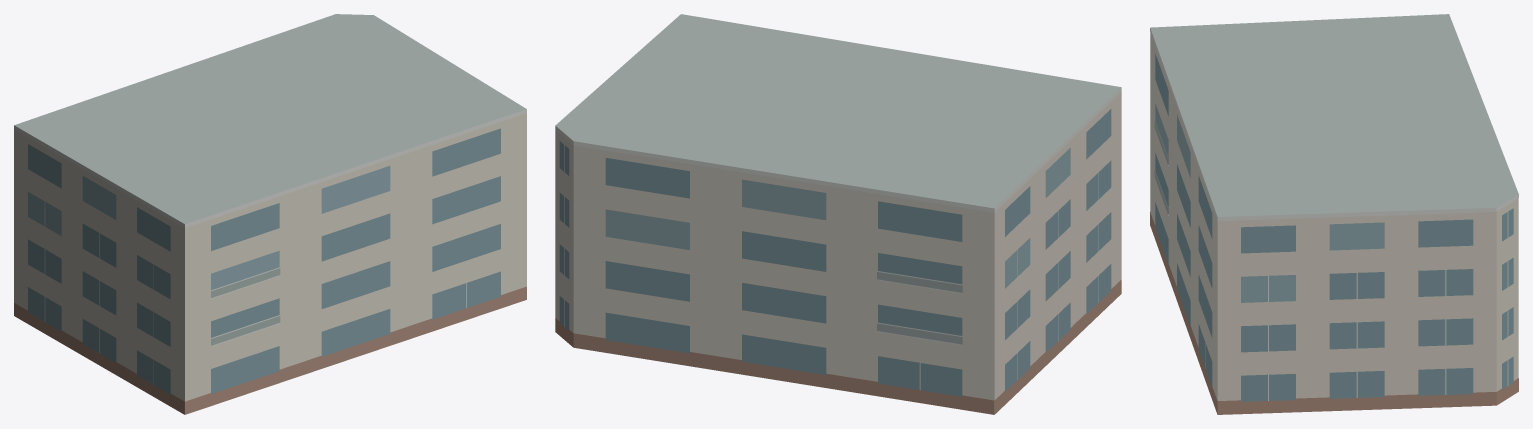
Rendered from survey-upis-32489994.glb.
The picture shows the model from 3 angles, left to right: view 1: azimuth 30°, elevation 25°; view 2: azimuth 150°, elevation 25°; view 3: azimuth 270°, elevation 25°; orthographic projection. The views are drawn at different scales.
Visible parts, largest first — view 1: survey-upis-32489994.tmp; view 2: survey-upis-32489994.tmp; view 3: survey-upis-32489994.tmp.
Boxes of the visible parts, box(x1,y1,x2,y2) form: survey-upis-32489994.tmp: box(14, 14, 526, 414); survey-upis-32489994.tmp: box(555, 14, 1121, 414); survey-upis-32489994.tmp: box(1150, 14, 1518, 414).
Bounding box in the file's own units: 25.77 × 11.7 × 19.77.
